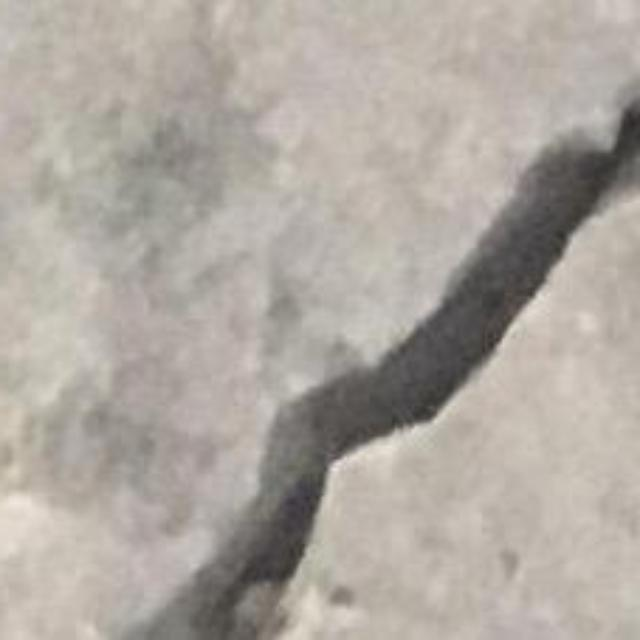crack: (124, 94, 639, 639)
